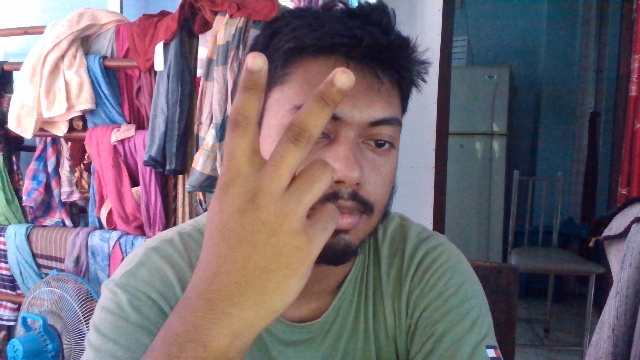thanks: (210, 46, 355, 316)
